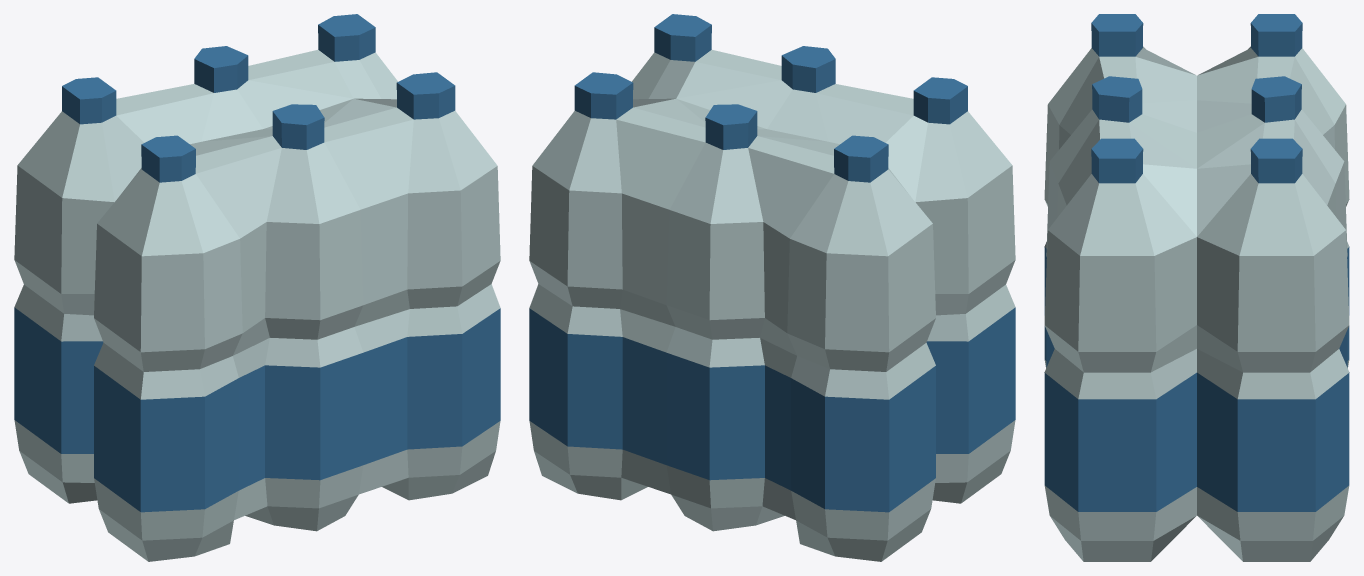
The model's file is drinks-water-bottles-pack.glb.
The picture shows the model from 3 angles, left to right: view 1: azimuth 30°, elevation 25°; view 2: azimuth 150°, elevation 25°; view 3: azimuth 270°, elevation 25°; orthographic projection.
Visible parts, largest first — view 1: water-bottles-pack; view 2: water-bottles-pack; view 3: water-bottles-pack.
Part boxes in pixels (x1,y1,x2,y2): water-bottles-pack: (14,14,500,561); water-bottles-pack: (529,14,1015,561); water-bottles-pack: (1044,14,1349,561).
Bounding box in the file's own units: 0.4622 × 0.4744 × 0.3351.
